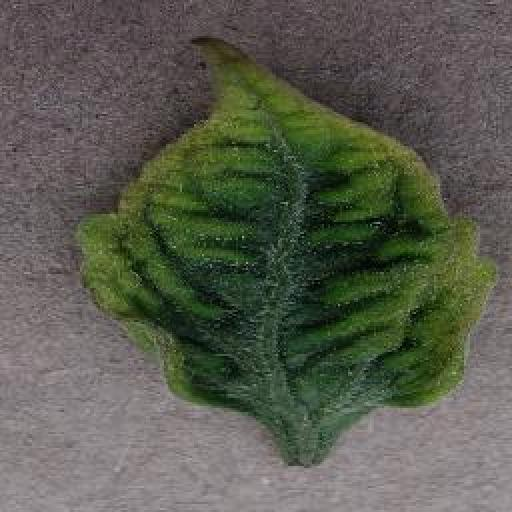disease_tomato: (78, 36, 500, 424)
